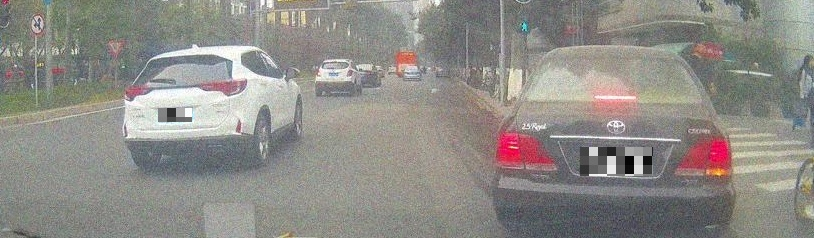L_light: (493, 132, 557, 171), (123, 84, 154, 102), (316, 69, 322, 77)
R_light: (674, 135, 733, 177), (198, 77, 247, 97), (346, 69, 353, 77)
T_light: (593, 95, 636, 100), (173, 55, 193, 59), (331, 62, 338, 64)
day-no: (121, 46, 248, 168), (314, 59, 354, 96)
day-right: (491, 45, 736, 235)
plate_1: (158, 108, 192, 122)
plate_2: (580, 147, 653, 176)
